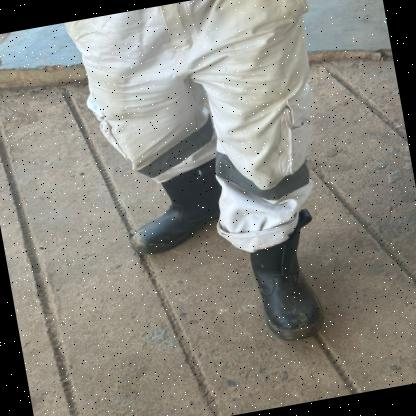bota: (238, 208, 340, 348), (117, 159, 223, 259)
